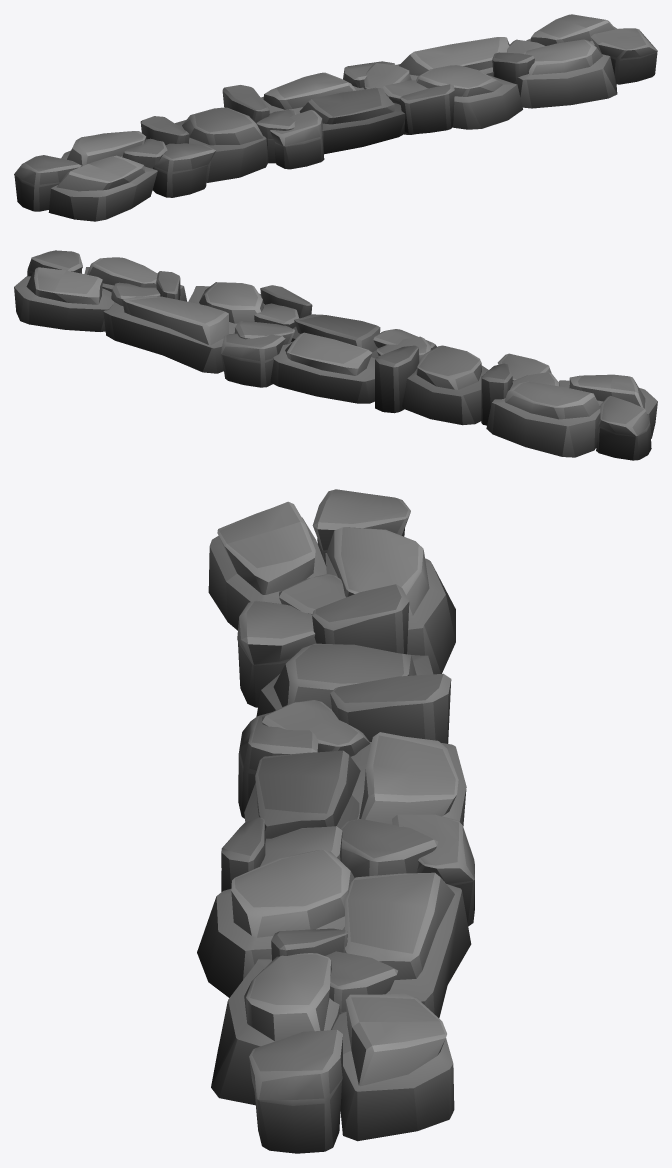
The model's file is Rock1.fbx.
The picture shows the model from 3 angles, top to bottom: view 1: azimuth 30°, elevation 25°; view 2: azimuth 150°, elevation 25°; view 3: azimuth 270°, elevation 25°; orthographic projection. The views are drawn at different scales.
Parts seen in each view (by area): view 1: Rock.001; view 2: Rock.001; view 3: Rock.001.
Boxes of the visible parts, <box> form: Rock.001: <box>14,14,657,221</box>; Rock.001: <box>14,250,657,460</box>; Rock.001: <box>197,489,474,1153</box>.
Size of the model in its own units: 998 by 78.82 by 196.
Materials: 1 (1 with a texture image).
